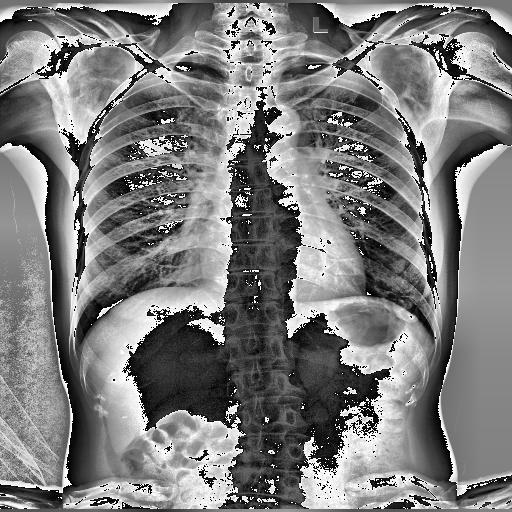13- Pulmonary fibrosis: (374, 285, 420, 323)
8- Nodule-Mass: (388, 257, 406, 273), (392, 258, 404, 273)
9- Other lesion: (392, 258, 404, 273)
